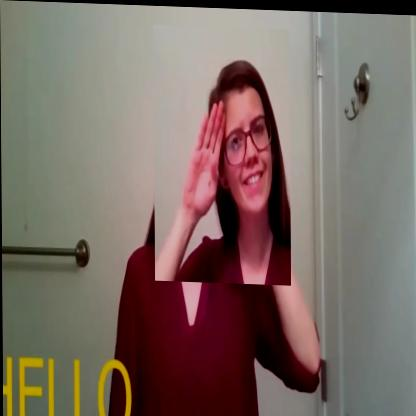Hello: (153, 23, 291, 283)
